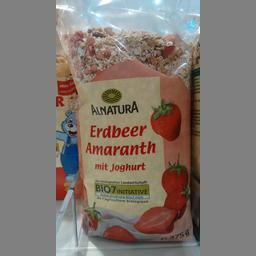cereal: (55, 24, 194, 242)
